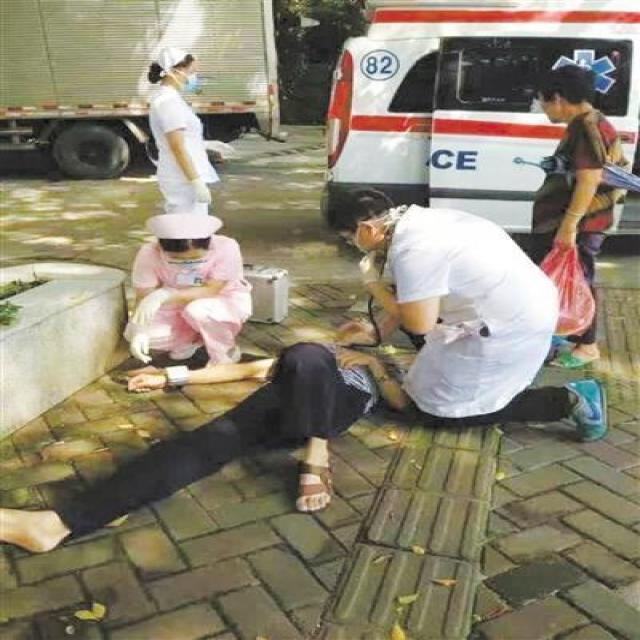fall: (0, 317, 400, 543), (328, 188, 614, 440), (509, 65, 640, 364), (115, 212, 253, 362), (138, 49, 218, 222)
